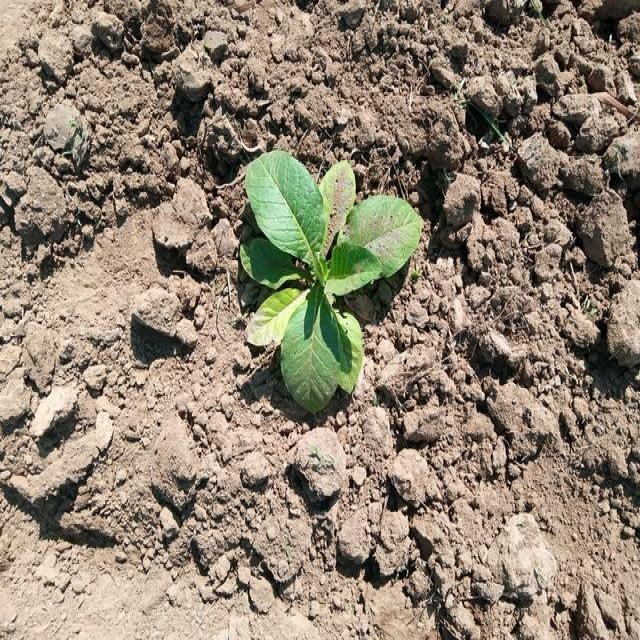crop: (242, 150, 426, 411)
